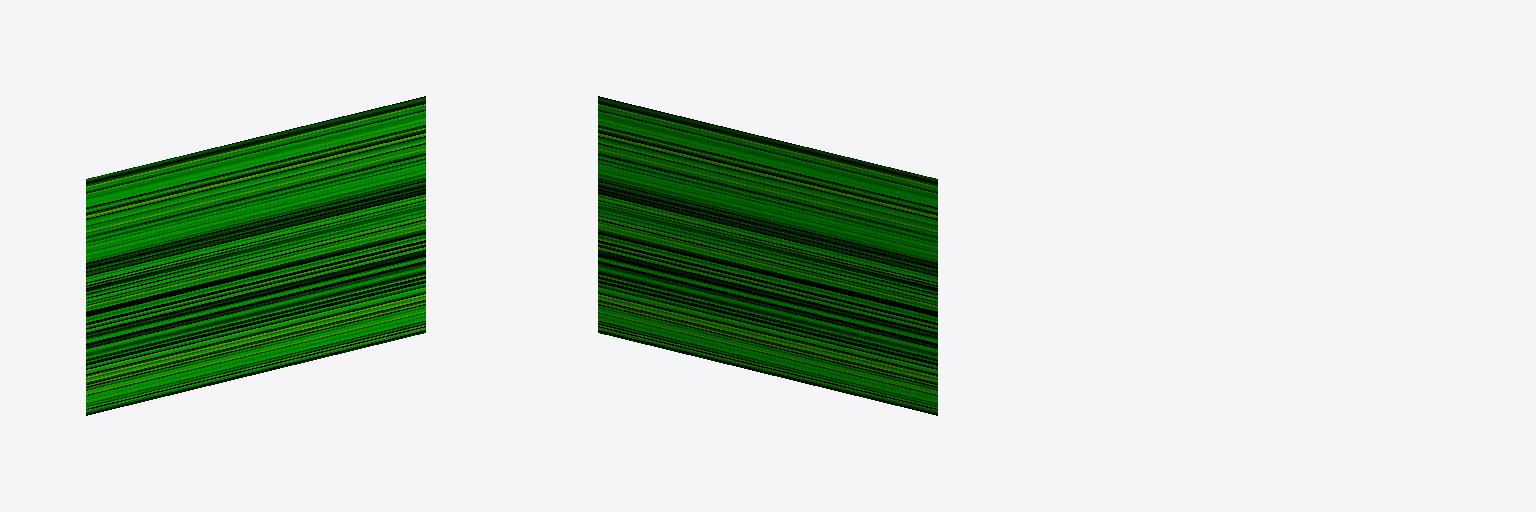
3 views of the same model, side by side, from view 1: azimuth 30°, elevation 25°; view 2: azimuth 150°, elevation 25°; view 3: azimuth 270°, elevation 25° (orthographic).
Parts seen in each view (by area): view 1: Plane; view 2: Plane; view 3: none.
Boxes of the visible parts, x1,y1,x2,y2 form: Plane: [86, 96, 425, 415]; Plane: [598, 96, 937, 415].
Bounding box in the file's own units: 6 × 4 × 0.
Materials: 1 (1 with a texture image).